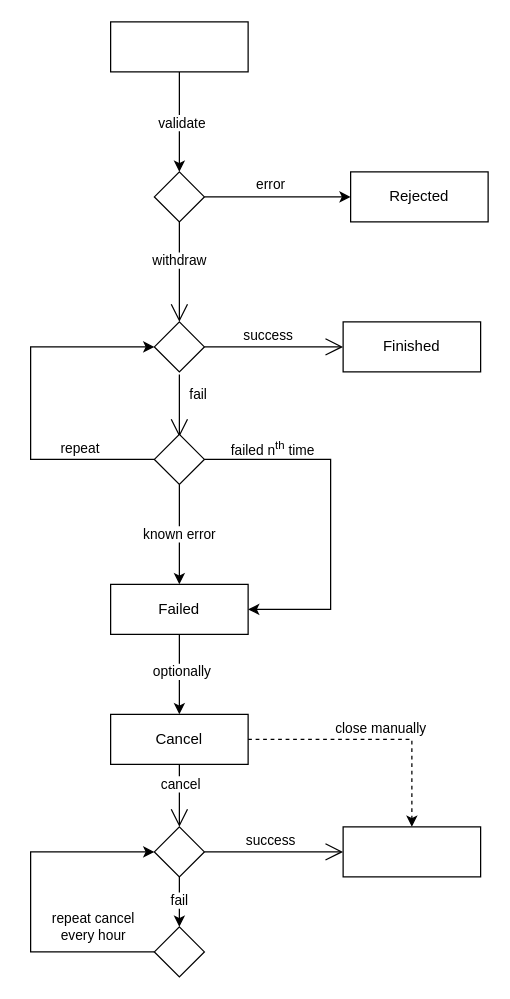
This 510x999 diagram has some shape labels left out. The centre of each missing label's shape, as x and y in pixels:
"Cancelled" goes at point 411,851.
"Started" goes at point 178,46.
